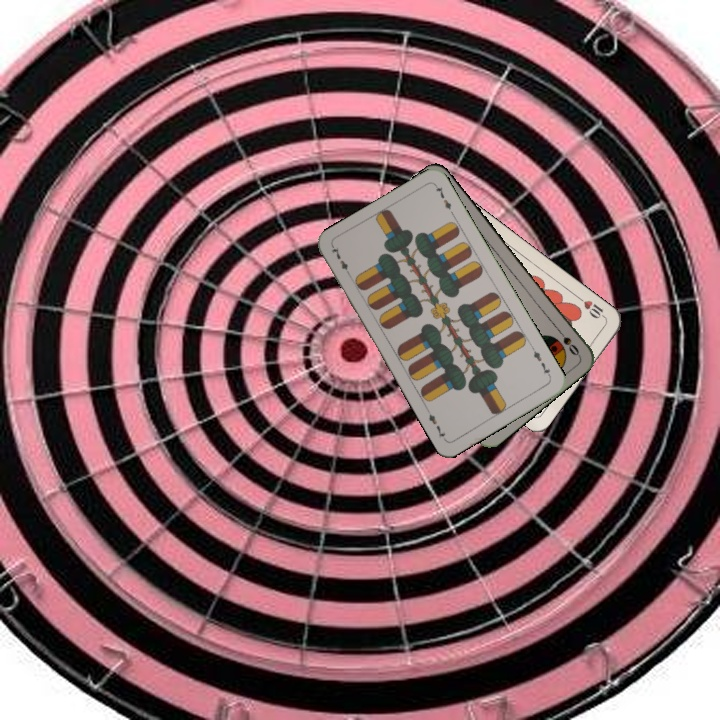E7: (528, 343, 554, 380), (328, 243, 354, 280)
H10: (574, 293, 609, 322)
SO: (552, 323, 582, 358)
